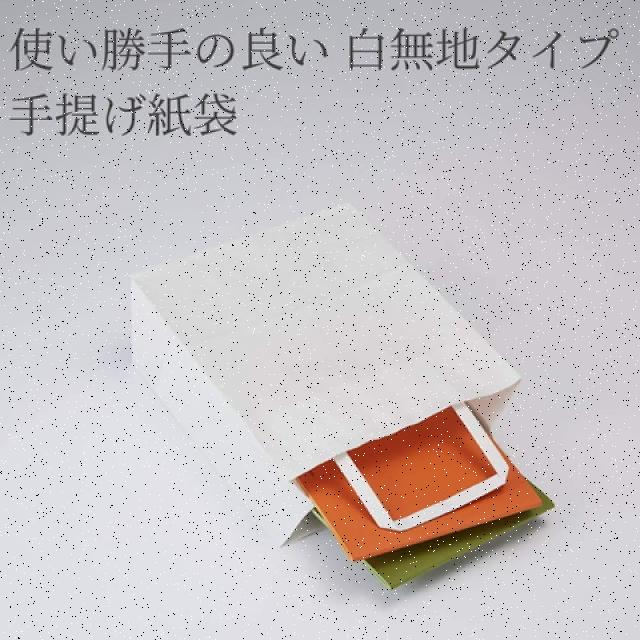paper bag: (130, 200, 520, 557)
